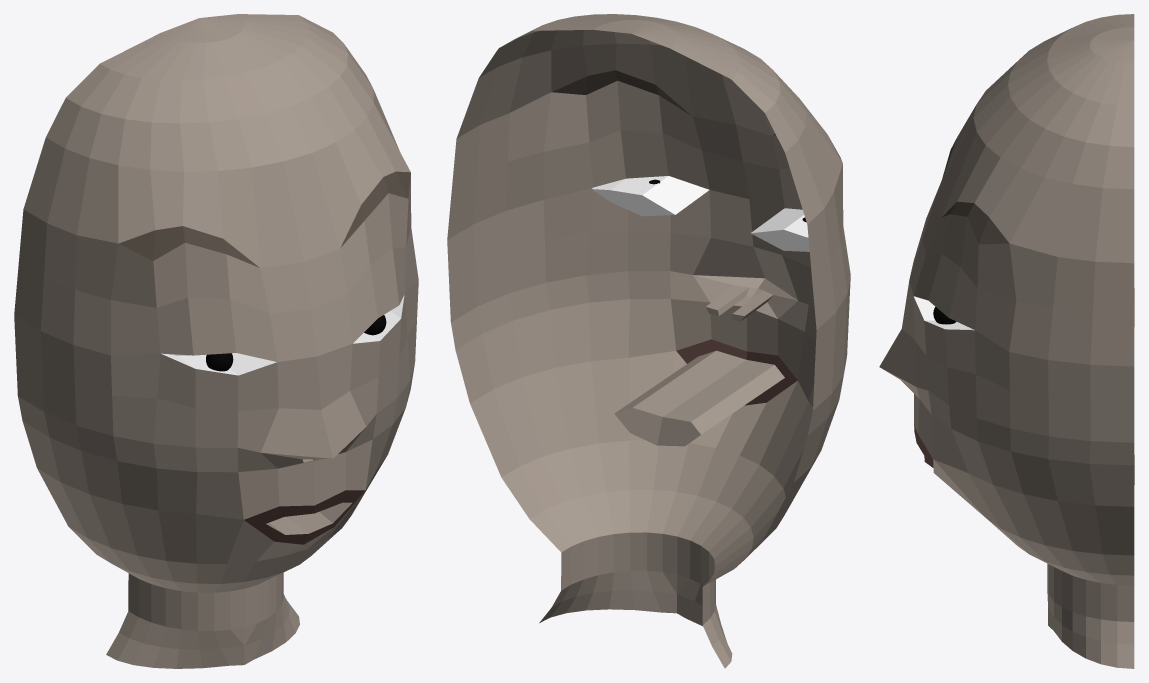
The model's file is Research Models.glb.
The picture shows the model from 3 angles, left to right: view 1: azimuth 30°, elevation 25°; view 2: azimuth 150°, elevation 25°; view 3: azimuth 270°, elevation 25°; orthographic projection. The views are drawn at different scales.
Parts seen in each view (by area): view 1: 球; view 2: 球; view 3: 球.
Part boxes in pixels (x1,y1,x2,y2): 球: (14,14,418,668); 球: (447,14,850,668); 球: (879,14,1134,668).
Bounding box in the file's own units: 2.61 × 4.14 × 1.64.
